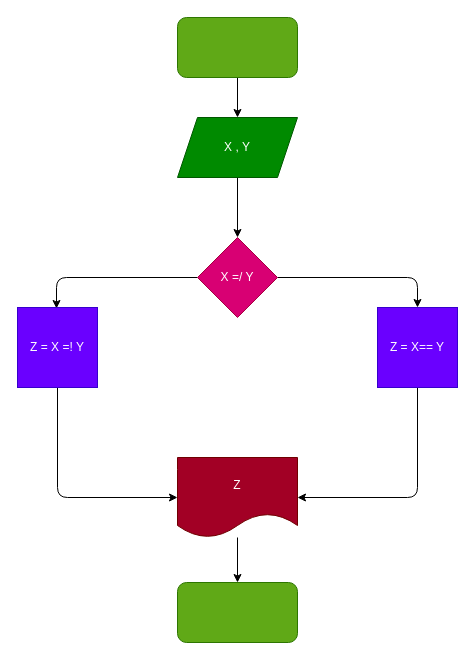
The diagram is 475 pixels wide and 660 high, and some of its shapes have lost their labels. The shapes that lost their labels are listed below. From the top down, each one's box as (x1, y1, x2, y2) in pixels, then its label:
(176, 16, 298, 78): INICIO
(176, 582, 298, 642): FIN
